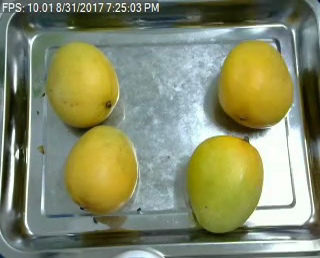Mango: (189, 137, 265, 234), (218, 39, 293, 127), (65, 125, 139, 213), (47, 42, 122, 126)
